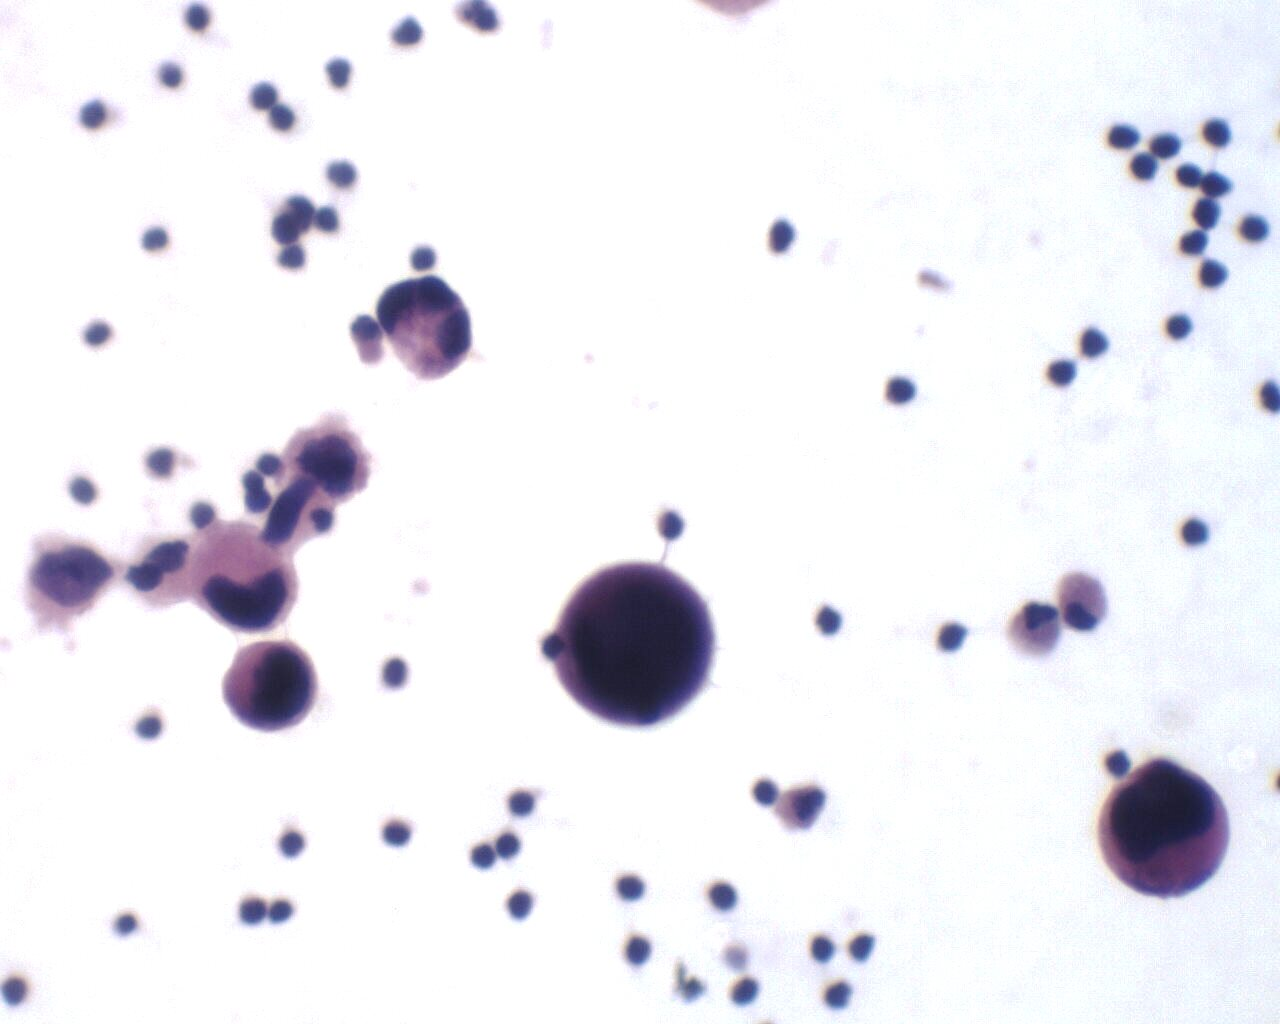ab: (546, 553, 715, 738), (1103, 751, 1238, 902), (182, 521, 305, 639), (218, 639, 321, 734)
lymph: (881, 370, 925, 417), (503, 777, 541, 827), (1194, 113, 1243, 152), (1043, 353, 1084, 394), (707, 877, 745, 920), (273, 823, 311, 864), (1233, 207, 1272, 248), (504, 883, 541, 923), (402, 239, 445, 274), (611, 868, 650, 906), (747, 778, 784, 816), (243, 78, 281, 115), (1160, 305, 1198, 341), (141, 220, 177, 258), (1128, 148, 1163, 185)
meso: (1057, 567, 1114, 636)
